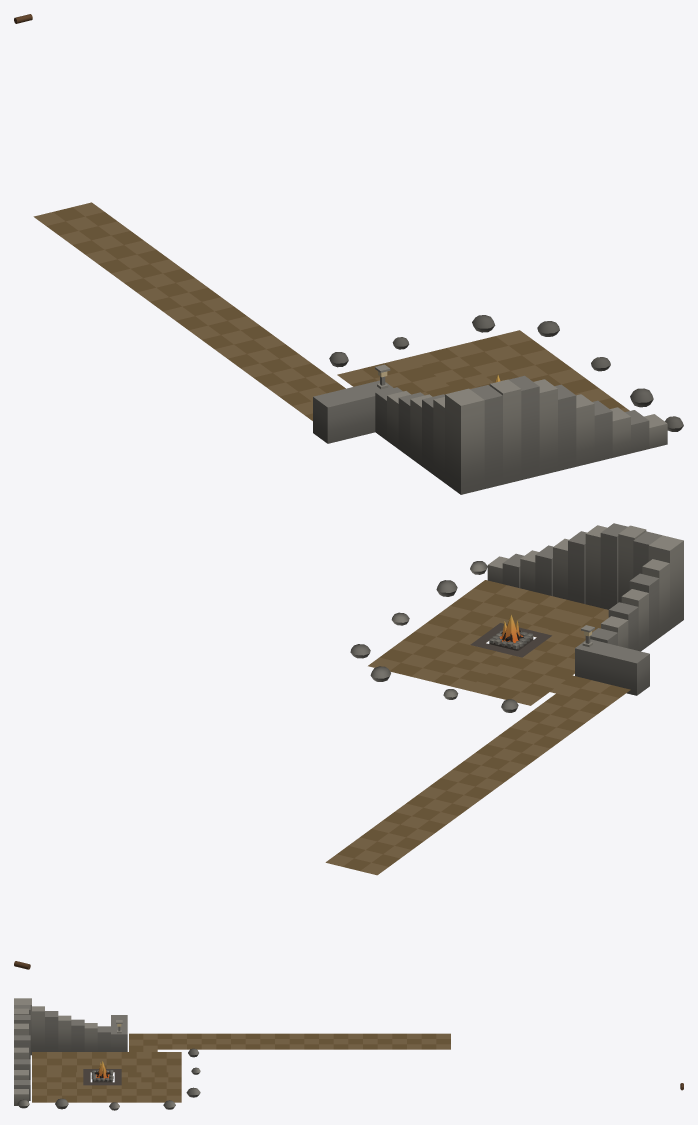
The model's file is bonfire.glb.
3 views of the same model, one above another, from view 1: azimuth 30°, elevation 25°; view 2: azimuth 150°, elevation 25°; view 3: azimuth 270°, elevation 25° (orthographic). The views are drawn at different scales.
Parts seen in each view (by area): view 1: shell, floor; view 2: floor, shell; view 3: floor, shell.
Part boxes in pixels (x1,y1,x2,y2): shell: (313, 315, 683, 494); floor: (33, 202, 629, 420); floor: (325, 580, 630, 875); shell: (350, 523, 683, 712); floor: (32, 1033, 450, 1102); shell: (14, 998, 200, 1110).
Size of the model in its own units: 15.61 by 4.76 by 55.95.
